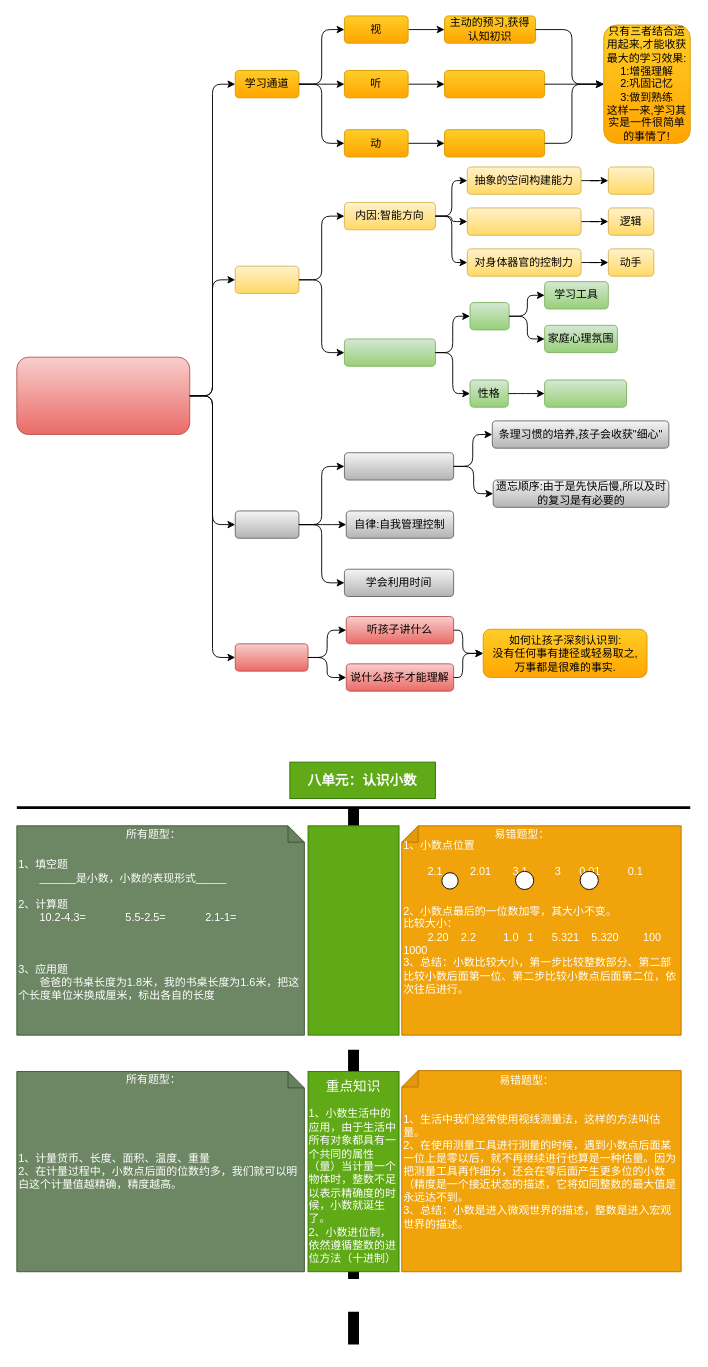
Some shapes in this 708 by 1367 pixel diagram are drawn without their labels. Here are the shapes that lost their labels. From the top down, the box of each, then its label:
(444, 70, 545, 98): 阅读,获得新的记忆
(444, 129, 545, 157): 整理笔记,获得思考
(607, 166, 654, 194): 语言
(466, 207, 581, 235): 严谨的顺序逻辑推理
(234, 265, 299, 293): 差异的形成
(469, 302, 509, 330): 环境
(344, 338, 435, 366): 外因:环境及性格
(16, 356, 190, 435): 帮助孩子寻找学习方法
(544, 379, 627, 407): 学习动机的人格
(344, 452, 454, 480): 正确认识自我找方法
(234, 510, 299, 538): 学习效率
(234, 643, 308, 671): 与孩子的沟通
(307, 825, 399, 1035): 基础知识 1、小数的由来是计量方法的延伸。 2、小数的表现形式：小数点后面的第一位叫十分位、第二位叫百分位、第三位叫千分位、...它与整数的叫法多了"分"
